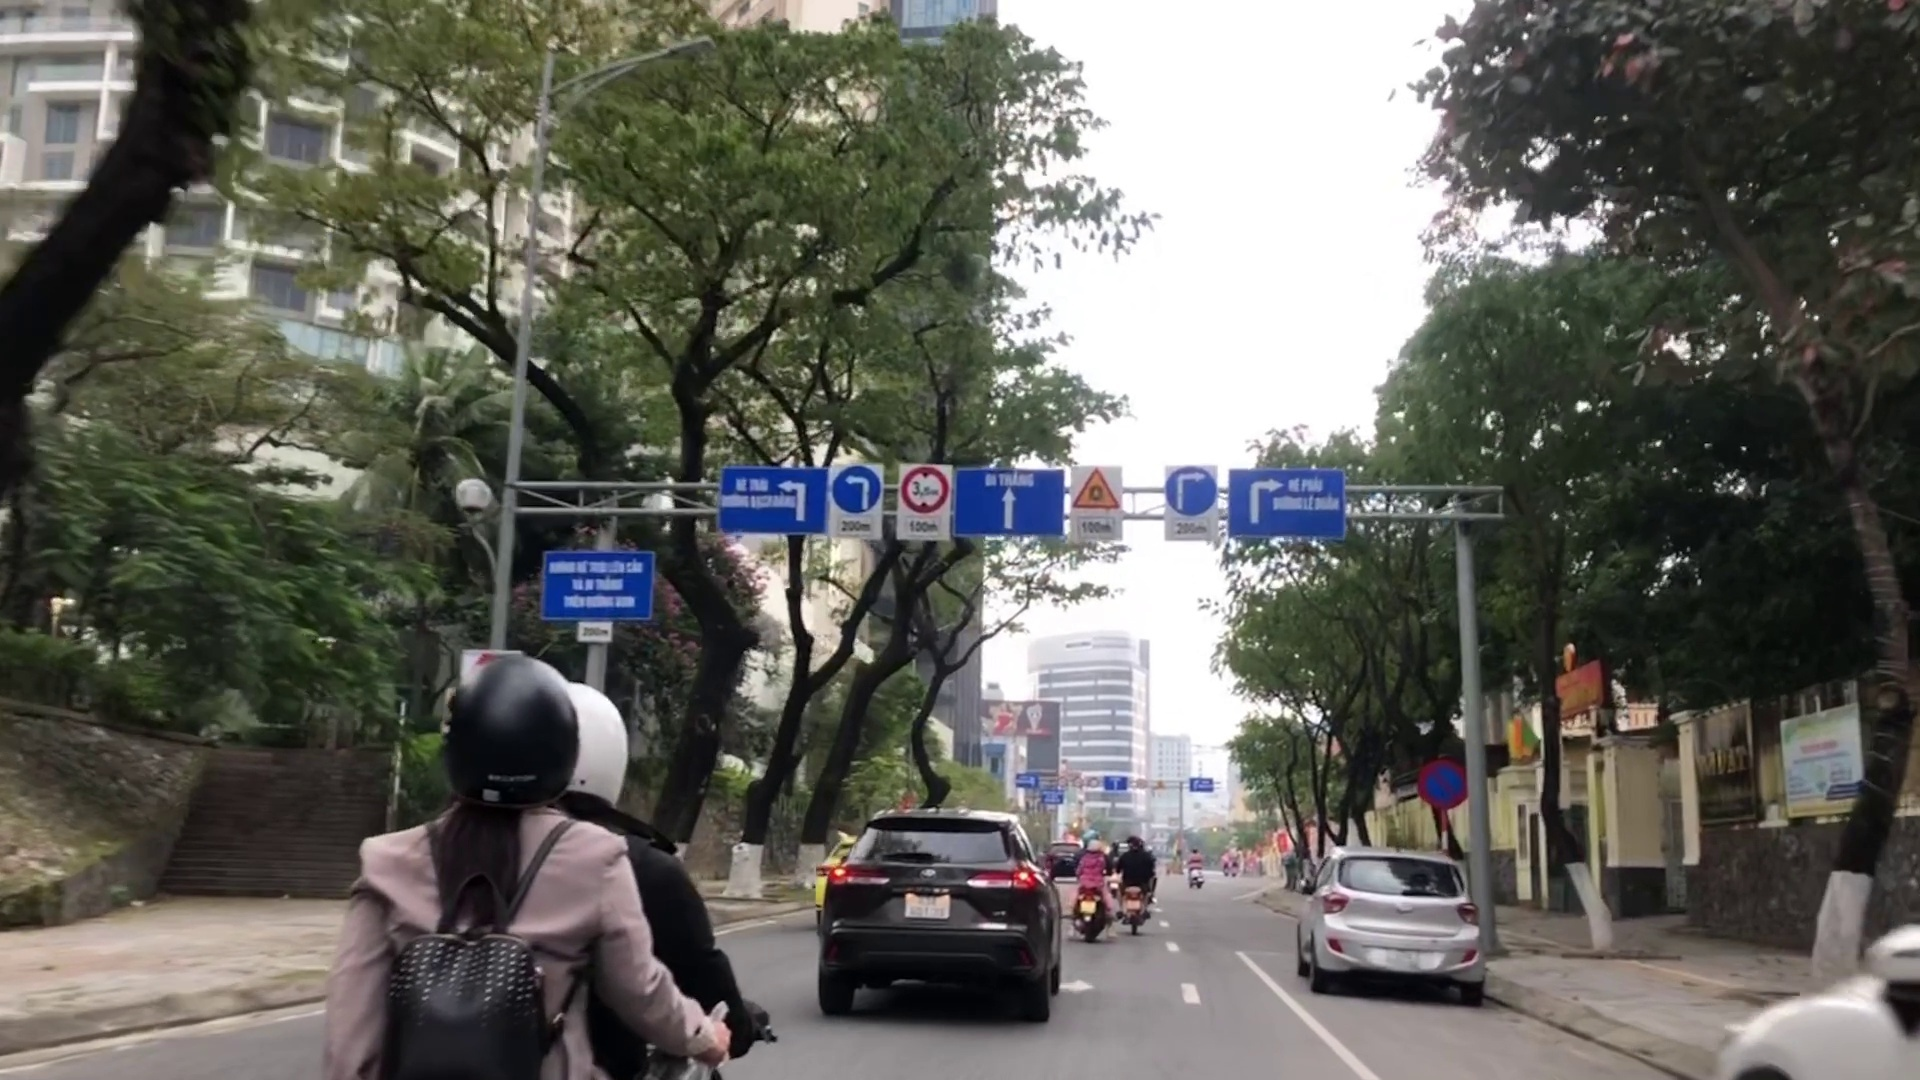Bien khac: (1069, 463, 1120, 541)
Cam do xe: (1420, 760, 1464, 812)
